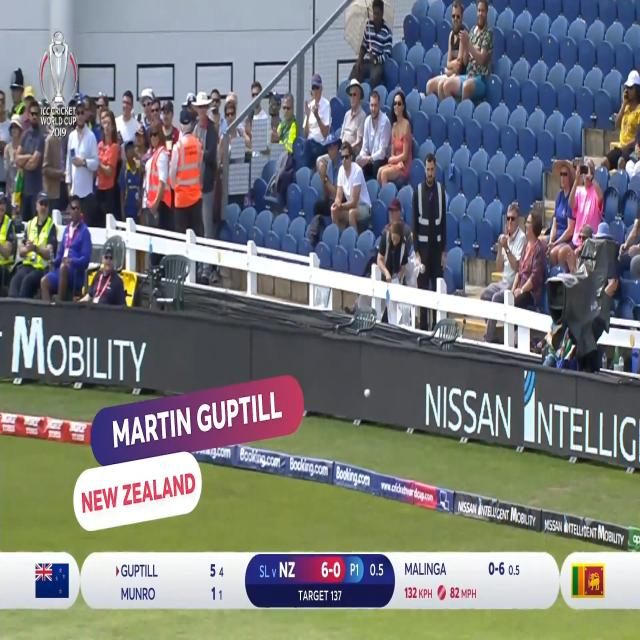ball: (362, 382, 372, 405)
